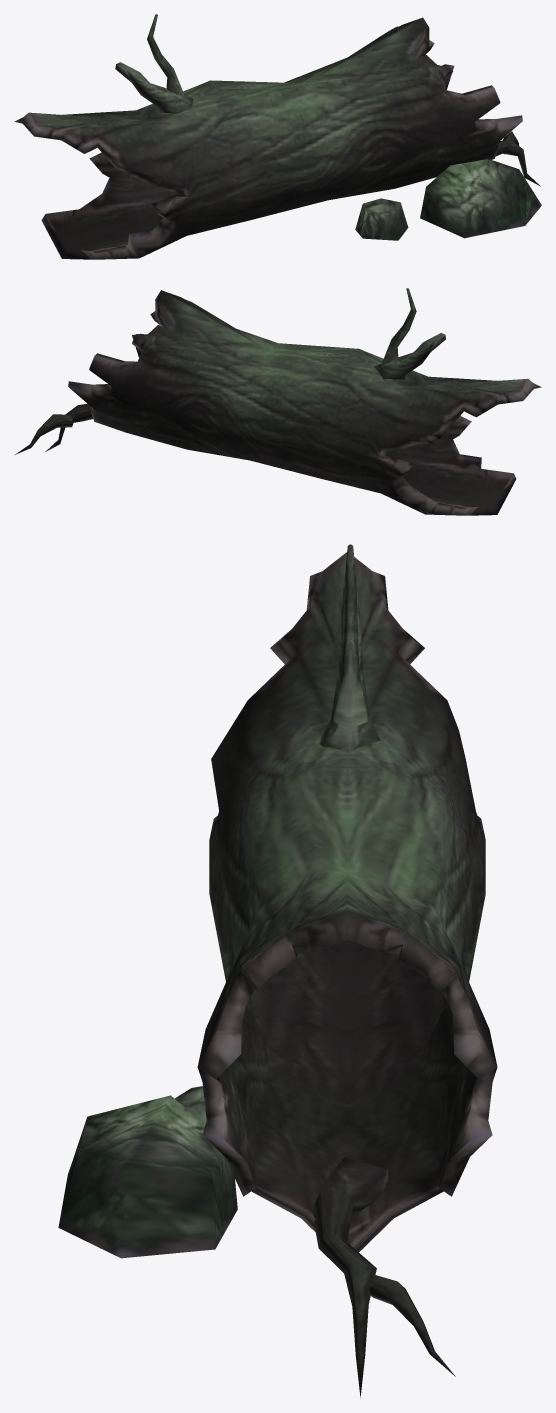
Rendered from hazz_03.FBX.
3 views of the same model, one above another, from view 1: azimuth 30°, elevation 25°; view 2: azimuth 150°, elevation 25°; view 3: azimuth 270°, elevation 25° (orthographic). The views are drawn at different scales.
Parts seen in each view (by area): view 1: hazz_03; view 2: hazz_03; view 3: hazz_03.
Part boxes in pixels (left/top/right/bottom): hazz_03: left=14, top=14, right=541, bottom=259; hazz_03: left=15, top=288, right=541, bottom=515; hazz_03: left=58, top=544, right=497, bottom=1397.
Bounding box in the file's own units: 286 × 110 × 139.
